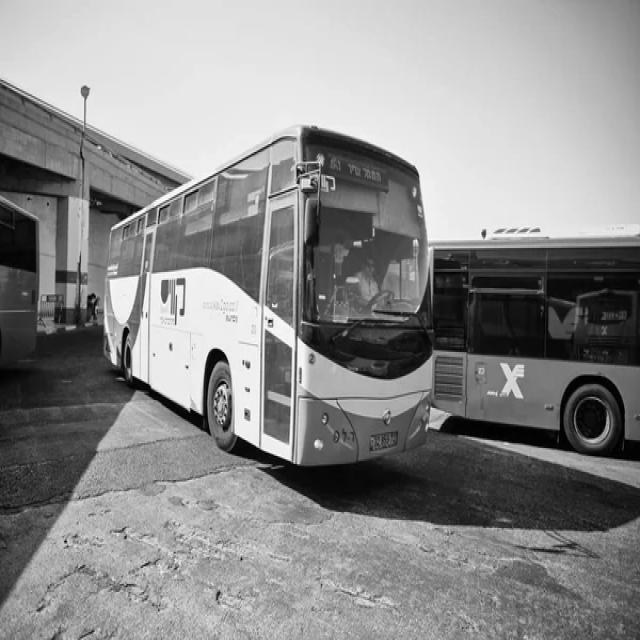Bus: (105, 127, 433, 466), (431, 235, 640, 454)
